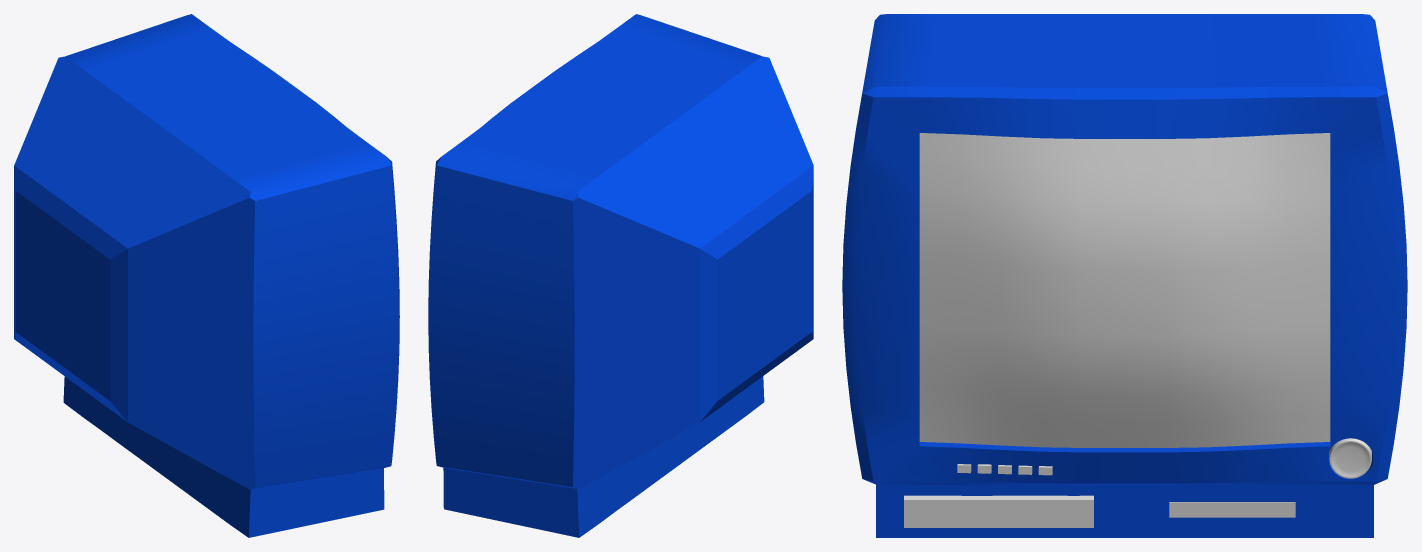
The model's file is crt_tv2.fbx.
The picture shows the model from 3 angles, left to right: view 1: azimuth 30°, elevation 25°; view 2: azimuth 150°, elevation 25°; view 3: azimuth 270°, elevation 25°; orthographic projection. The views are drawn at different scales.
Parts seen in each view (by area): view 1: Cube; view 2: Cube; view 3: Cube, Cube.001, dial, DVD, DVD.001, Buttons.
Boxes of the visible parts, x1=… form: Cube: x1=14, y1=14, x2=399, y2=537; Cube: x1=428, y1=14, x2=813, y2=537; Cube: x1=842, y1=14, x2=1407, y2=537; Cube.001: x1=904, y1=495, x2=1093, y2=527; dial: x1=1329, y1=438, x2=1371, y2=478; DVD: x1=1171, y1=502, x2=1293, y2=517; DVD.001: x1=1169, y1=502, x2=1295, y2=517; Buttons: x1=957, y1=464, x2=1052, y2=475.
Size of the model in its own units: 85.41 by 114 by 129.
